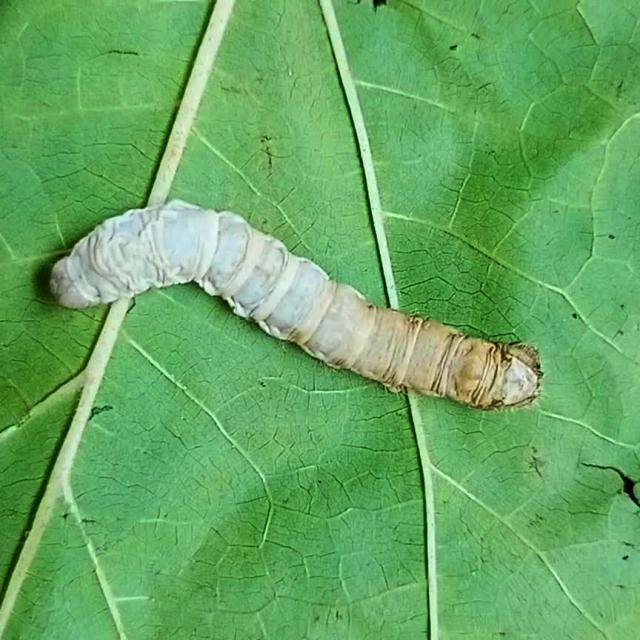Grasserie: (33, 147, 566, 445)
